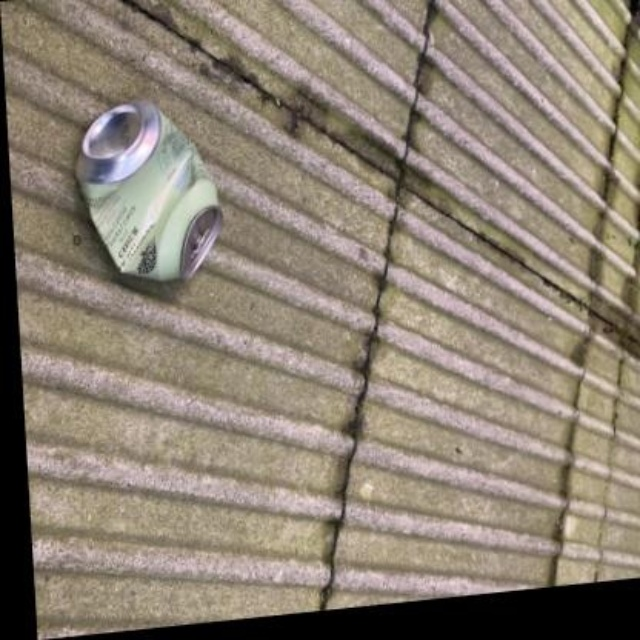trash: (77, 102, 220, 280)
